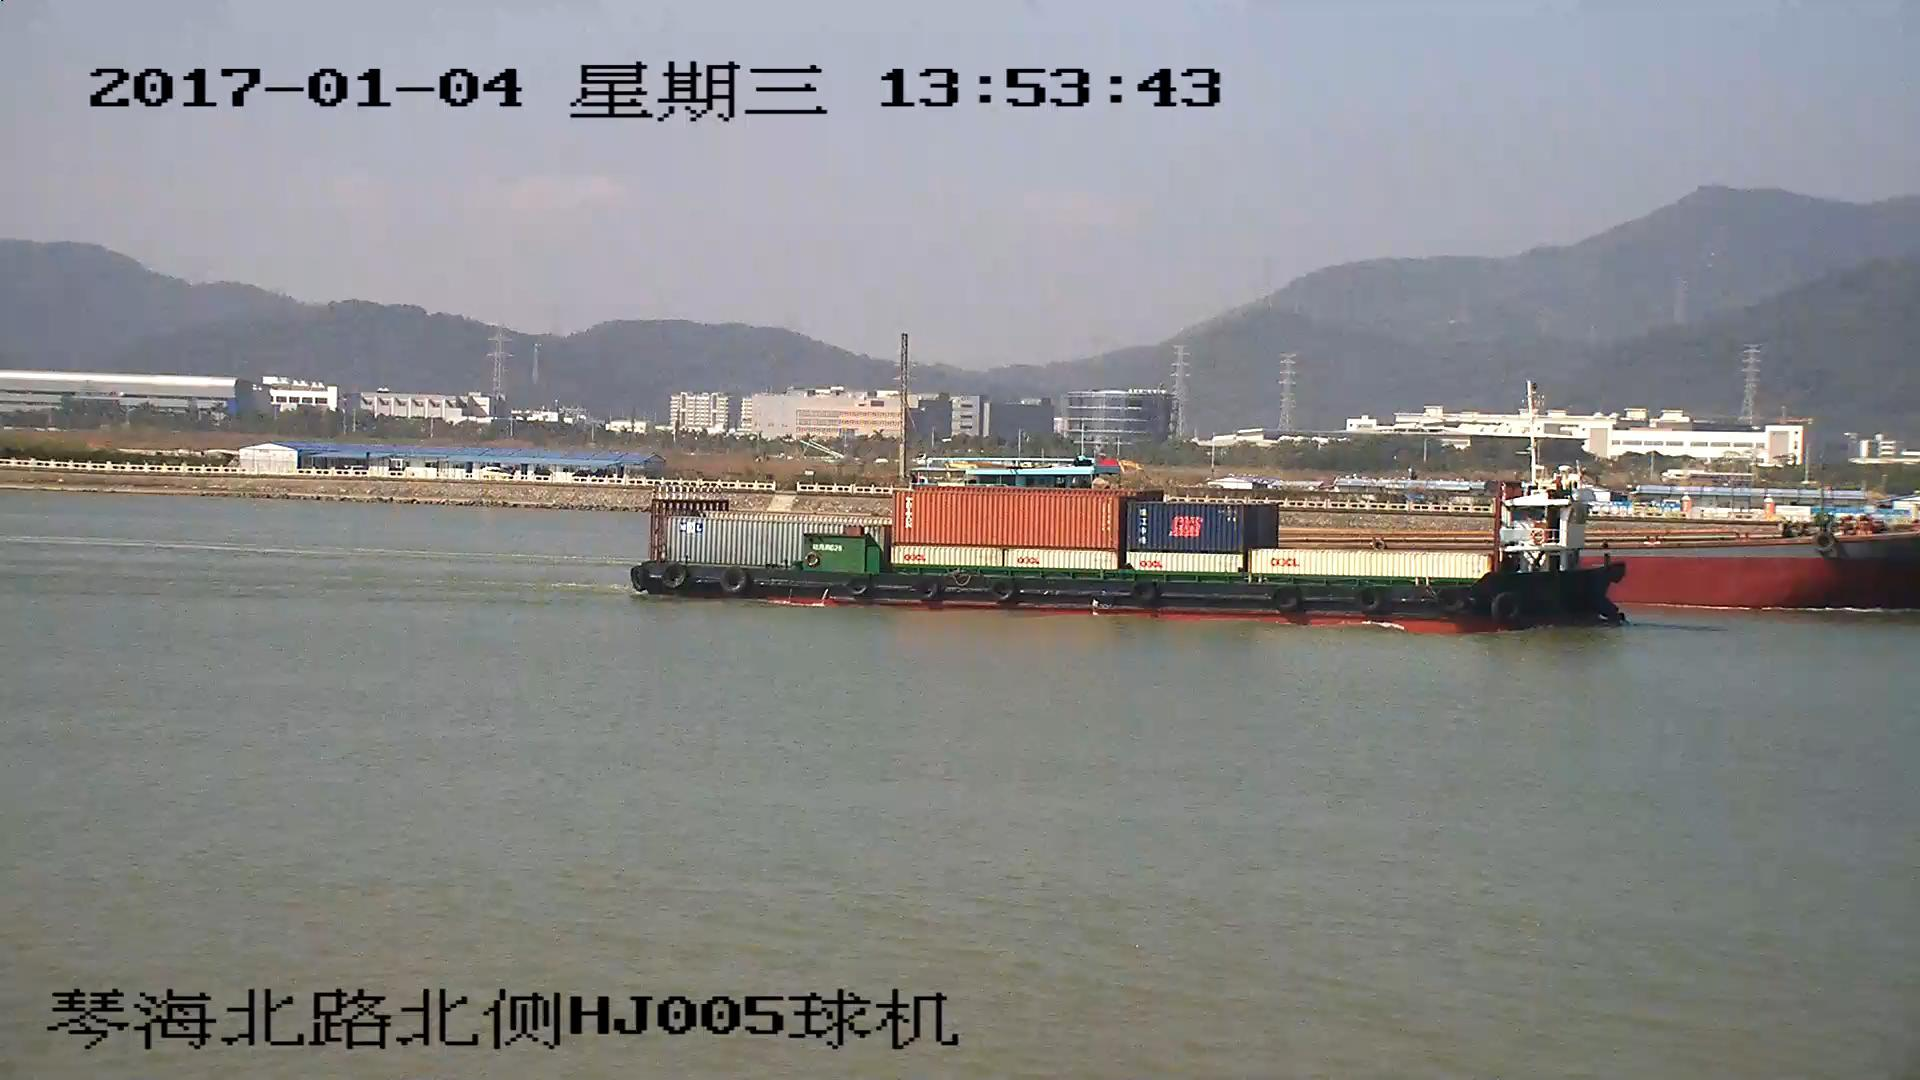Ship: (632, 487, 1625, 622)
